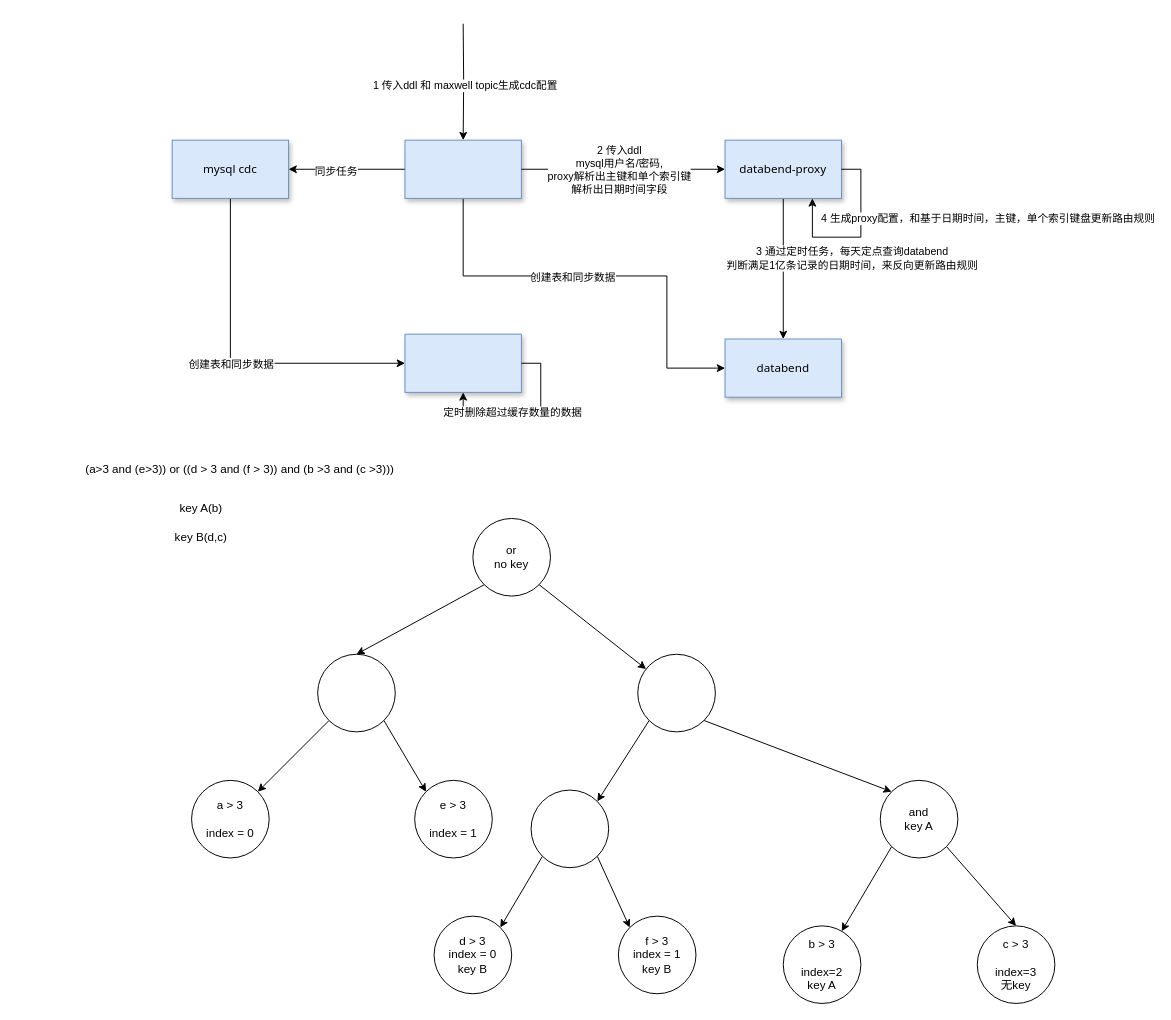
This 1171x1020 diagram has some shape labels left out. Each missing label, with the centre of its shape:
and: (356,692)
and key B: (569,828)
and no key: (676,692)
databend cdc: (463,170)
mysql: (463,364)
